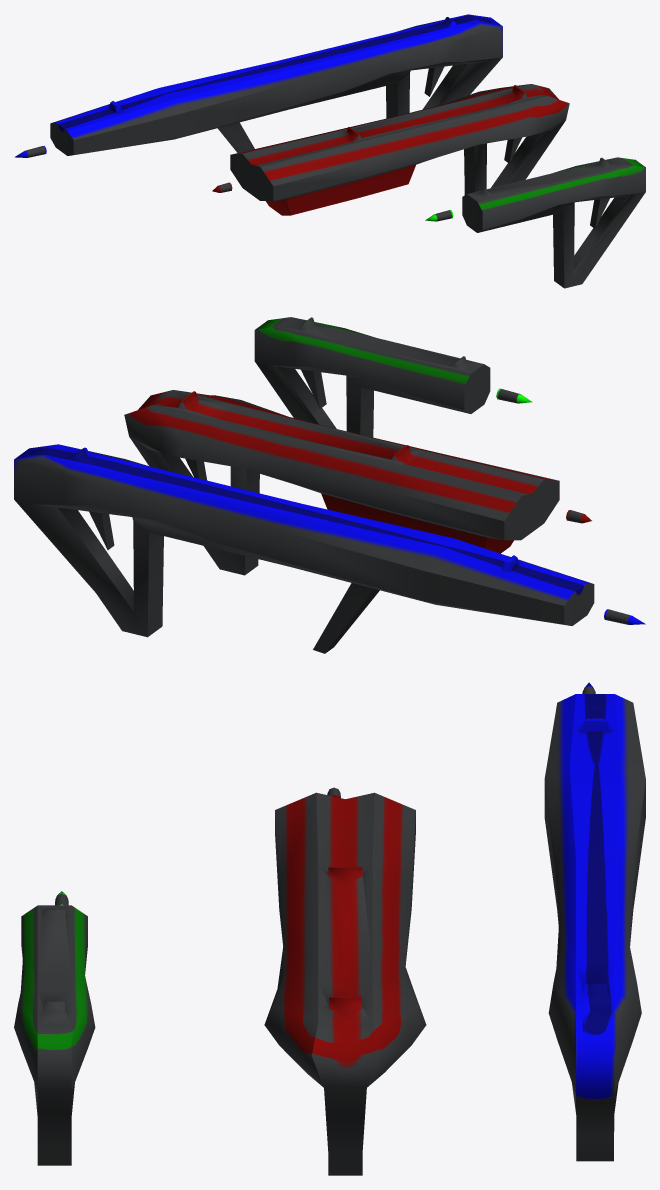
Rendered from allguns.obj.
The picture shows the model from 3 angles, top to bottom: view 1: azimuth 30°, elevation 25°; view 2: azimuth 150°, elevation 25°; view 3: azimuth 270°, elevation 25°; orthographic projection. The views are drawn at different scales.
Visible parts, largest first — view 1: rifle, shotgun, pistol; view 2: rifle, shotgun, pistol; view 3: shotgun, rifle, pistol.
Boxes of the visible parts, box(x1,y1,x2,y2) form: rifle: box(50, 14, 502, 155); shotgun: box(230, 84, 569, 215); pistol: box(462, 157, 645, 288); rifle: box(14, 444, 594, 653); shotgun: box(124, 390, 559, 575); pistol: box(254, 317, 490, 437); shotgun: box(264, 792, 426, 1175); rifle: box(544, 694, 645, 1161); pistol: box(14, 905, 95, 1165).
Size of the model in its own units: 27 by 7.2 by 18.66.
6 materials, 6 textured.
